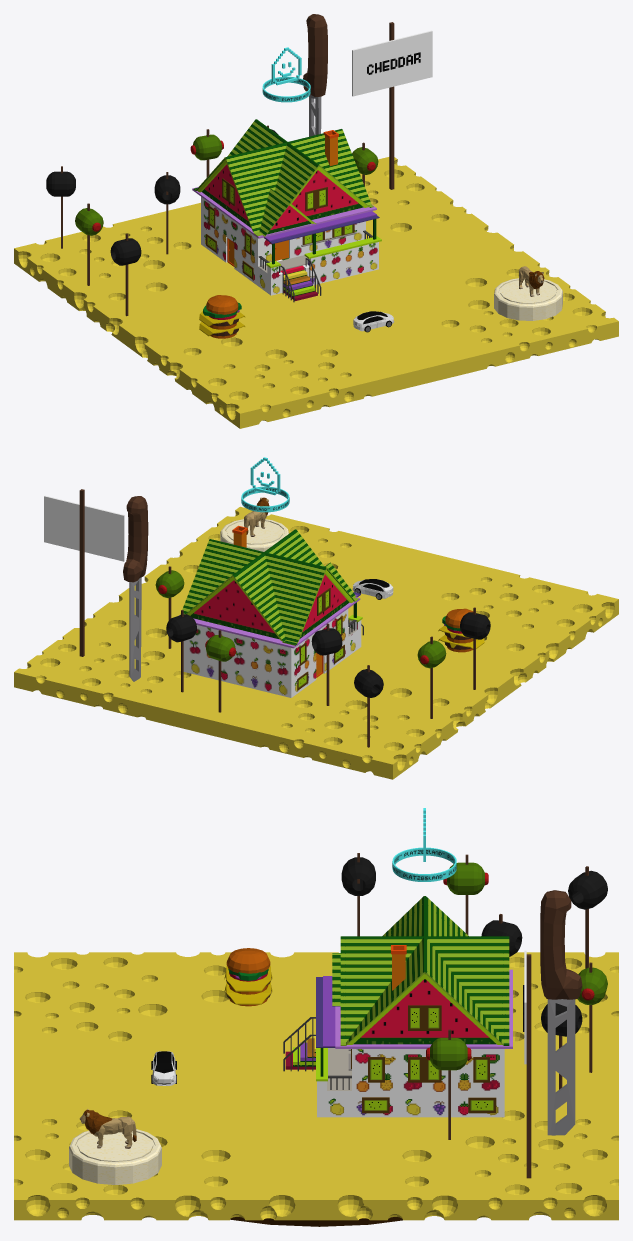
3 renders of one model, top to bottom at view 1: azimuth 30°, elevation 25°; view 2: azimuth 150°, elevation 25°; view 3: azimuth 270°, elevation 25°, orthographic. The views are drawn at different scales.
Visible parts, largest first — view 1: Cube.022, Cube.1063, Cube.023, Cylinder.016, Cube.024, OBJRANDOM_HAMBURGER, TYPE_PREMIUM, Sphere.017, Sphere.016, Sphere.020, Sphere.018, Sphere.022 (+2 smaller); view 2: Cube.022, Cube.1063, Cube.023, Cube.024, Cylinder.016, OBJRANDOM_HAMBURGER, TYPE_PREMIUM, Sphere.020, Sphere.022, Sphere.017, Sphere.021, Sphere.016 (+4 smaller); view 3: Cube.022, Cube.1063, Cube.024, Cylinder.016, OBJRANDOM_HAMBURGER, Cube.023, Sphere.019, Sphere.016, Sphere.018, TYPE_PREMIUM, Sphere.017, ANIMAL_LEON (+5 smaller).
Boxes of the visible parts, x1,y1,x2,y2 form: Cube.022: (14,157,618,428); Cube.1063: (192,119,381,302); Cube.023: (352,22,432,189); Cylinder.016: (494,278,562,320); Cube.024: (303,14,327,136); OBJRANDOM_HAMBURGER: (199,295,245,338); TYPE_PREMIUM: (262,47,310,102); Sphere.017: (110,233,141,316); Sphere.016: (46,166,75,248); Sphere.020: (154,172,180,254); Sphere.018: (75,203,103,285); Sphere.022: (190,129,223,177); Cube.022: (14,506,618,779); Cube.1063: (179,525,363,697); Cube.023: (44,489,124,656); Cube.024: (123,496,148,681); Cylinder.016: (220,519,288,551); OBJRANDOM_HAMBURGER: (438,608,484,652); TYPE_PREMIUM: (241,457,289,512); Sphere.020: (311,623,342,705); Sphere.022: (205,630,235,712); Sphere.017: (460,607,490,689); Sphere.021: (166,610,196,692); Sphere.016: (354,665,383,747); Cube.022: (14,952,618,1220); Cube.1063: (283,896,512,1117); Cube.024: (540,890,582,1135); Cylinder.016: (69,1129,161,1184); OBJRANDOM_HAMBURGER: (224,948,272,1006); Cube.023: (523,950,531,1178); Sphere.019: (426,1029,471,1139); Sphere.016: (568,866,607,968); Sphere.018: (443,854,488,934); TYPE_PREMIUM: (392,808,456,881); Sphere.017: (341,853,375,936); ANIMAL_LEON: (79,1109,136,1148).
Size of the model in its own units: 3917 by 2290 by 4000.
Materials: 41 (6 with a texture image).
